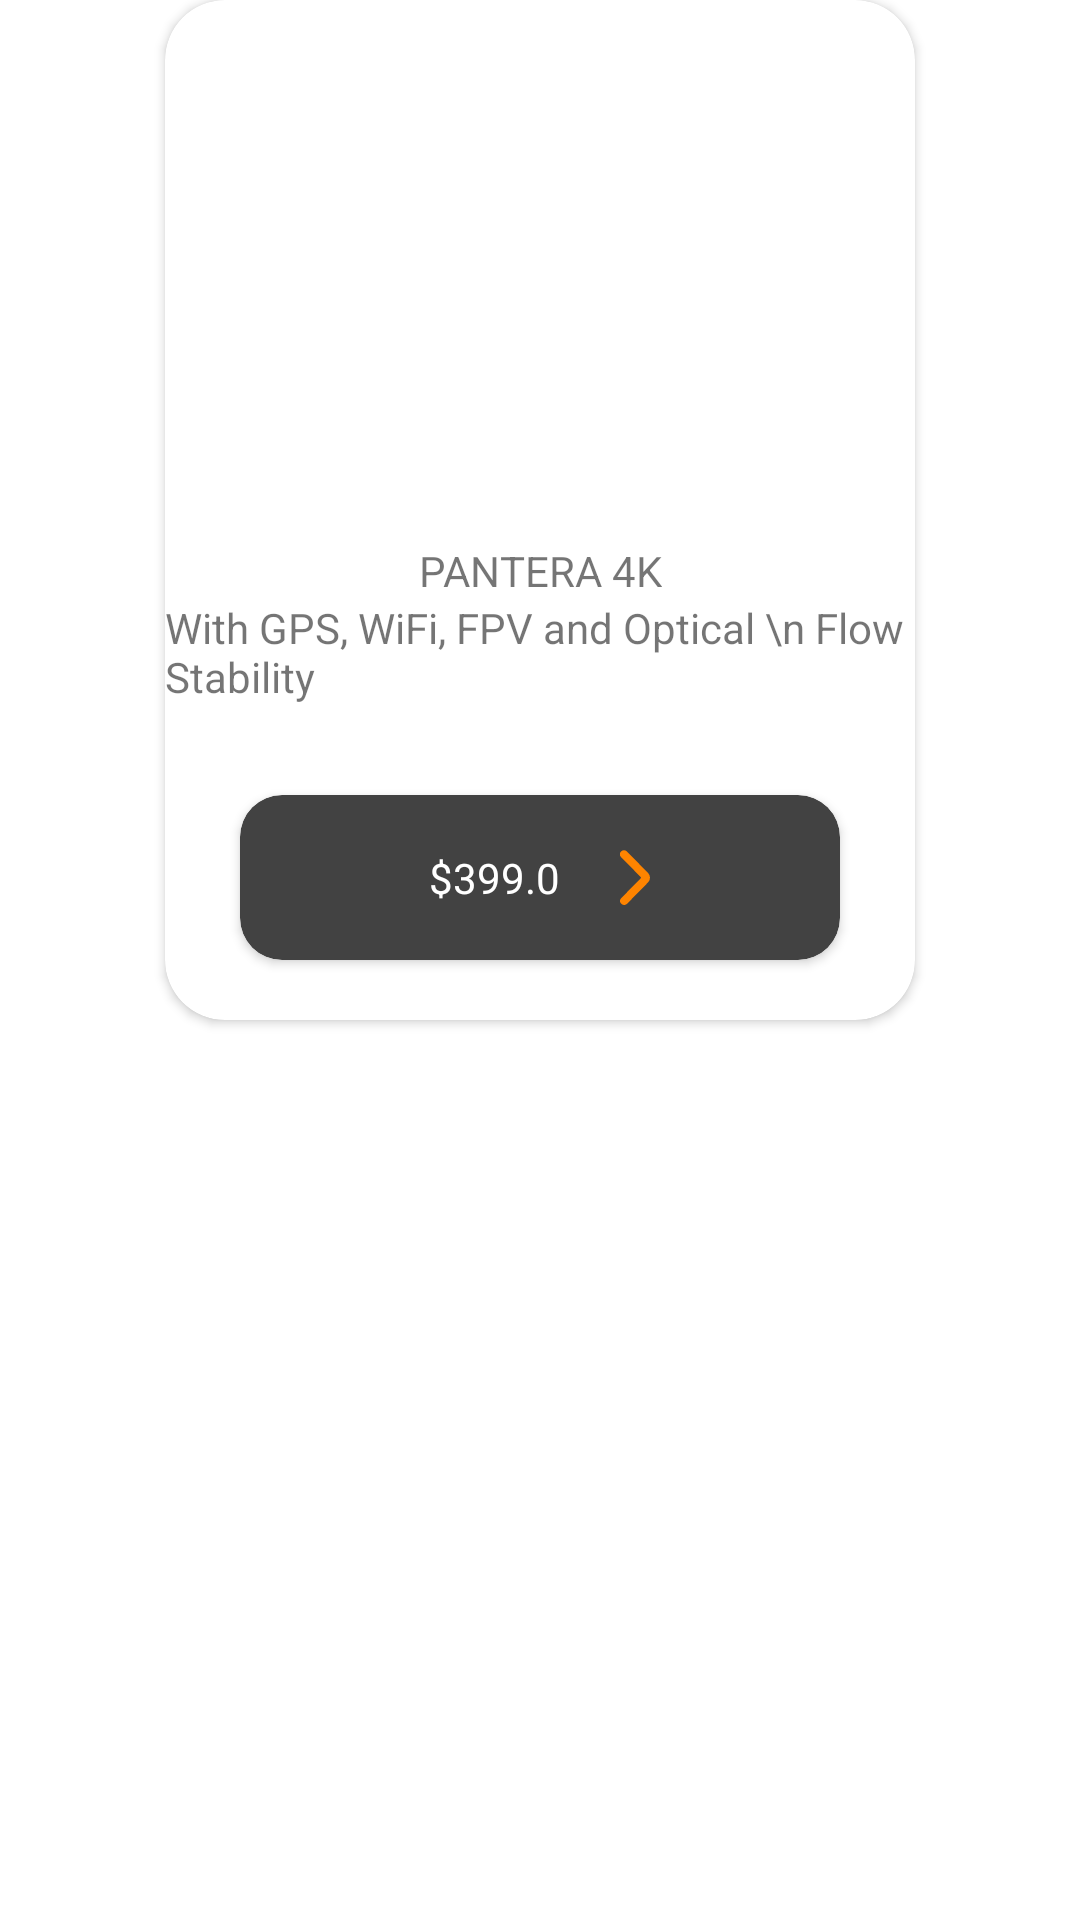

Where icons sit on this 1080w x 1920h app screen, as [left=x1, top=y1, right=x2, bottom=y2]:
right arrow: [left=620, top=850, right=650, bottom=905]
